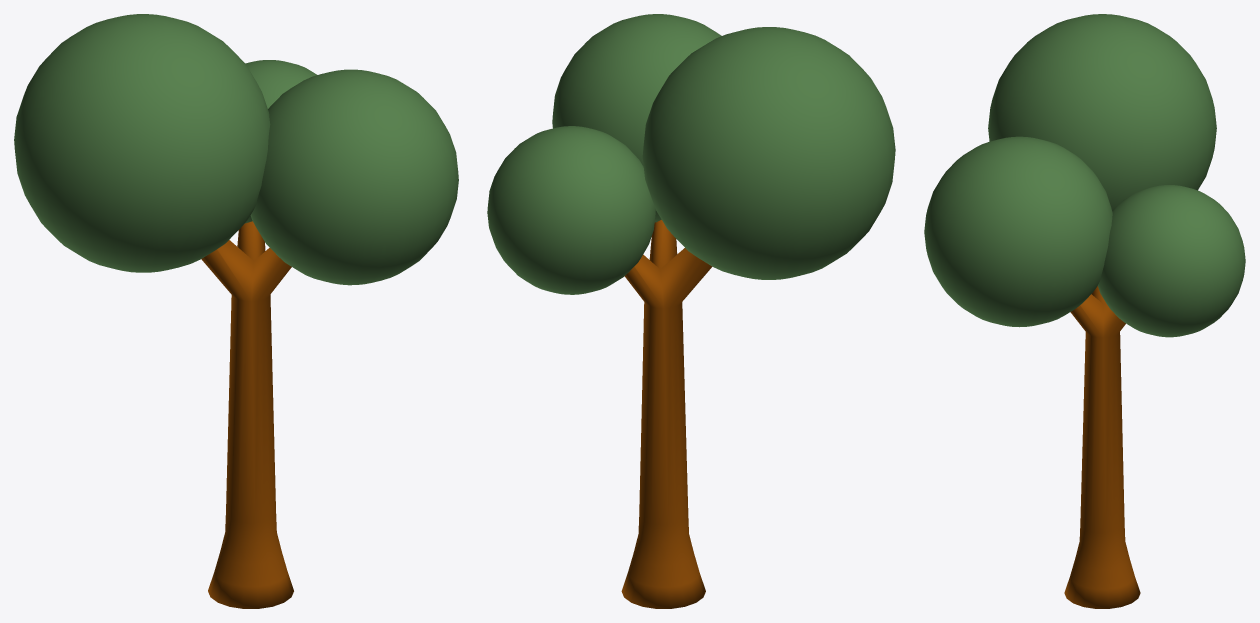
The model's file is OakTreeGreen.gltf.
3 views of the same model, side by side, from view 1: azimuth 30°, elevation 25°; view 2: azimuth 150°, elevation 25°; view 3: azimuth 270°, elevation 25° (orthographic). The views are drawn at different scales.
Parts seen in each view (by area): view 1: Cylinder.001; view 2: Cylinder.001; view 3: Cylinder.001.
Boxes of the visible parts, x1,y1,x2,y2 form: Cylinder.001: [14, 14, 458, 608]; Cylinder.001: [487, 14, 895, 608]; Cylinder.001: [924, 14, 1245, 608].
Size of the model in its own units: 9.8 by 15.11 by 8.43.
